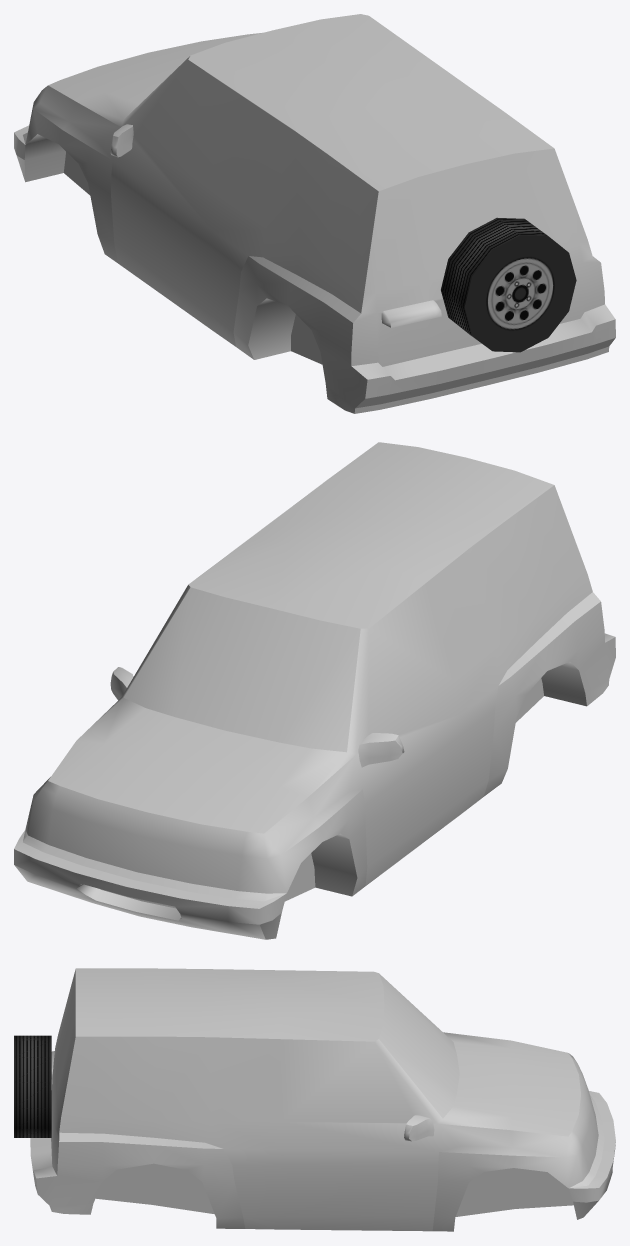
The model's file is vehicle_fhqsidekicklwb.fbx.
3 views of the same model, one above another, from view 1: azimuth 30°, elevation 25°; view 2: azimuth 150°, elevation 25°; view 3: azimuth 270°, elevation 25° (orthographic). The views are drawn at different scales.
Parts seen in each view (by area): view 1: fhqVitaraLWB, VitaraLWBSpare; view 2: fhqVitaraLWB; view 3: fhqVitaraLWB, VitaraLWBSpare.
Boxes of the visible parts, x1,y1,x2,y2 form: fhqVitaraLWB: [14, 14, 615, 413]; VitaraLWBSpare: [441, 217, 576, 352]; fhqVitaraLWB: [14, 442, 615, 939]; fhqVitaraLWB: [30, 968, 615, 1231]; VitaraLWBSpare: [14, 1035, 51, 1137].
Size of the model in its own units: 2.11 by 1.62 by 4.74.
